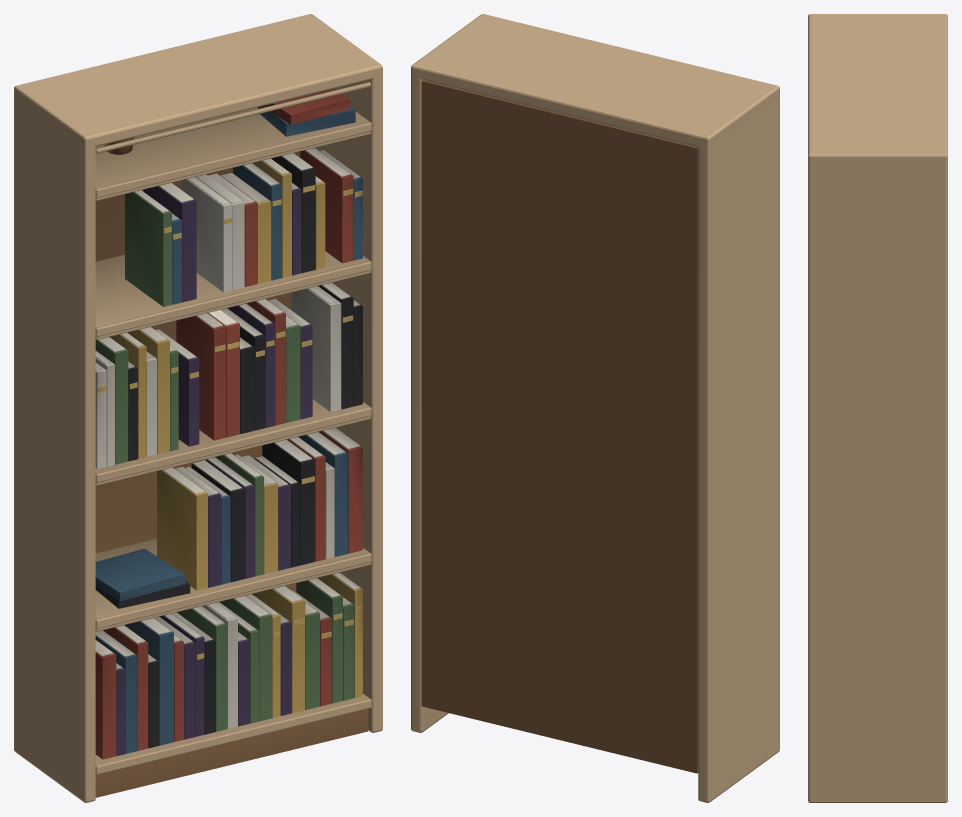
Rendered from bookshelf.glb.
3 renders of one model, left to right at view 1: azimuth 30°, elevation 25°; view 2: azimuth 150°, elevation 25°; view 3: azimuth 270°, elevation 25°, orthographic. The views are drawn at different scales.
Parts seen in each view (by area): view 1: bookshelf, book; view 2: bookshelf; view 3: bookshelf.
Boxes of the visible parts, x1=… form: bookshelf: x1=14, y1=14, x2=382, y2=802; book: x1=207, y1=310, x2=239, y2=437; bookshelf: x1=411, y1=14, x2=779, y2=802; bookshelf: x1=808, y1=14, x2=947, y2=802.
Size of the model in its own units: 0.9 by 1.92 by 0.375.
